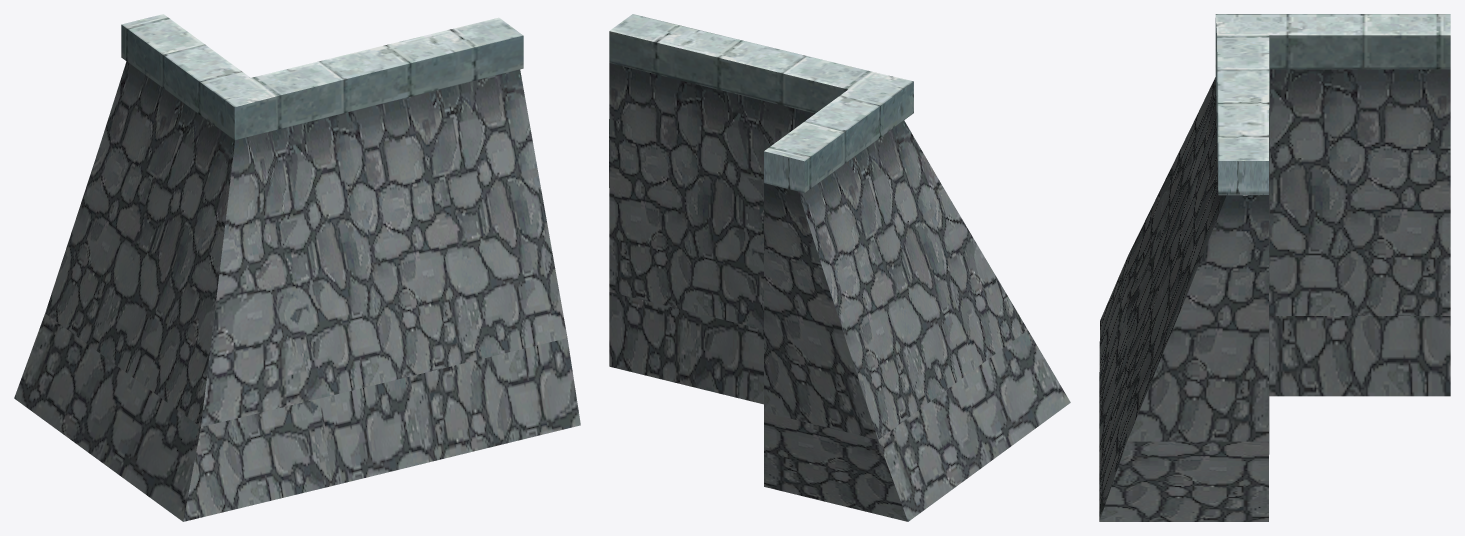
3 renders of one model, left to right at view 1: azimuth 30°, elevation 25°; view 2: azimuth 150°, elevation 25°; view 3: azimuth 270°, elevation 25°, orthographic. The views are drawn at different scales.
Parts seen in each view (by area): view 1: geom_node_0; view 2: geom_node_0; view 3: geom_node_0.
Part boxes in pixels (x1,y1,x2,y2): geom_node_0: (14, 14, 580, 521); geom_node_0: (609, 14, 1070, 521); geom_node_0: (1099, 14, 1450, 521).
Size of the model in its own units: 5.37 by 4.49 by 3.96.
Materials: 1 (1 with a texture image).
